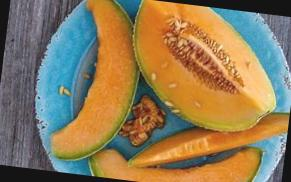Melon Ripe: (123, 0, 286, 136), (48, 0, 146, 167)
